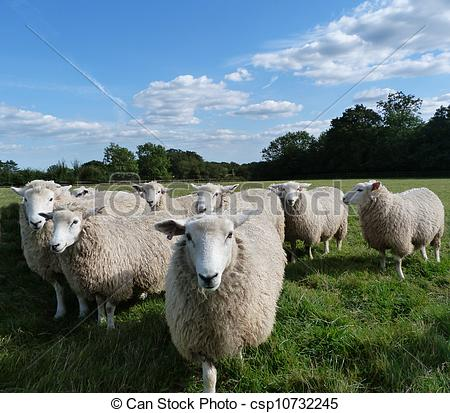sheep: (172, 217, 276, 368), (54, 208, 160, 315), (343, 179, 437, 277), (13, 172, 72, 264), (287, 178, 352, 260), (191, 182, 282, 237), (127, 180, 166, 212)
